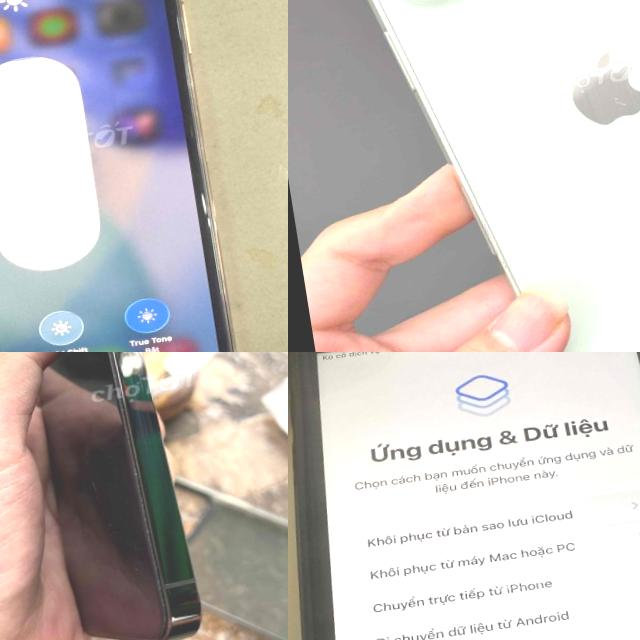gen_11: (0, 0, 267, 352)
gen_12_13: (310, 0, 640, 352), (0, 352, 249, 640)
gen_7_8: (288, 352, 640, 640)
